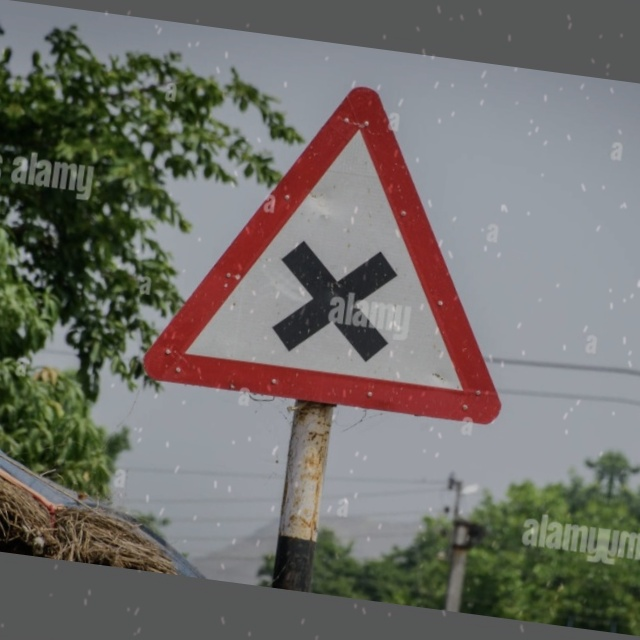Cross_Road: (140, 60, 544, 425)
